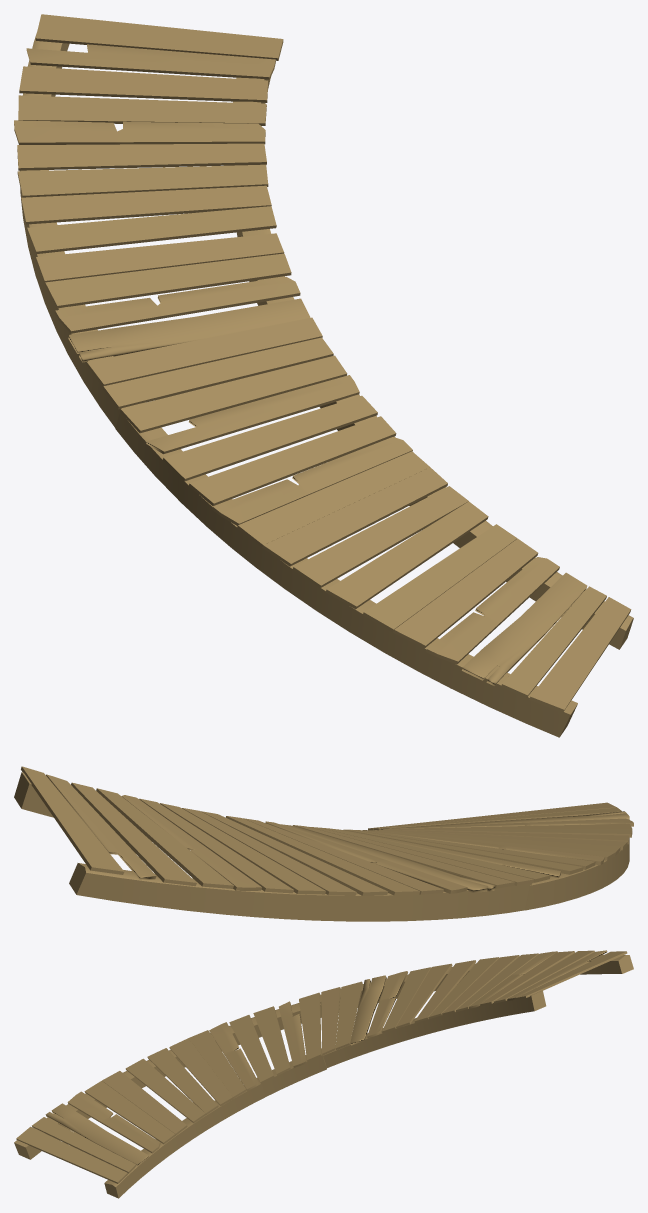
The model's file is Road_Beam_Simple_05.fbx.
The picture shows the model from 3 angles, top to bottom: view 1: azimuth 30°, elevation 25°; view 2: azimuth 150°, elevation 25°; view 3: azimuth 270°, elevation 25°; orthographic projection. The views are drawn at different scales.
Parts seen in each view (by area): view 1: Road_Beam_Simple_05; view 2: Road_Beam_Simple_05; view 3: Road_Beam_Simple_05.
Part boxes in pixels (<box>): Road_Beam_Simple_05: <box>14,14,633,737</box>; Road_Beam_Simple_05: <box>14,766,633,921</box>; Road_Beam_Simple_05: <box>14,950,633,1198</box>.
Bounding box in the file's own units: 228 × 221 × 612.
